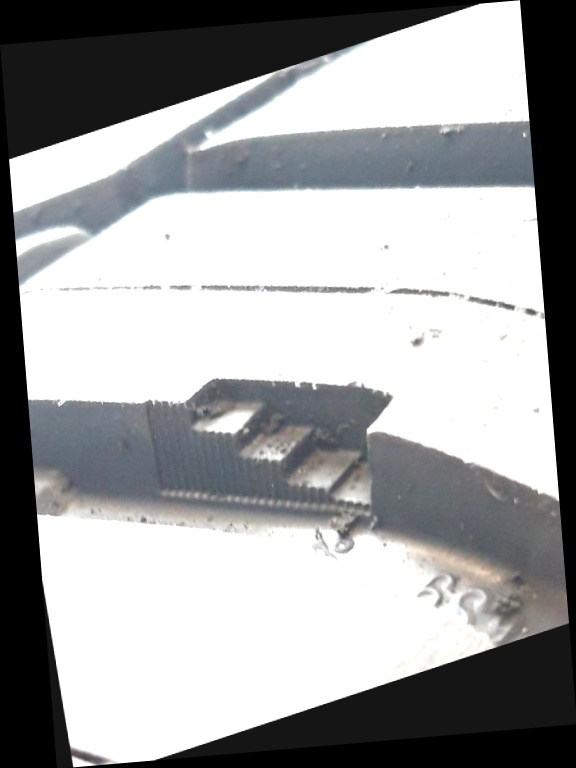temoin:95: (126, 301, 429, 603)
